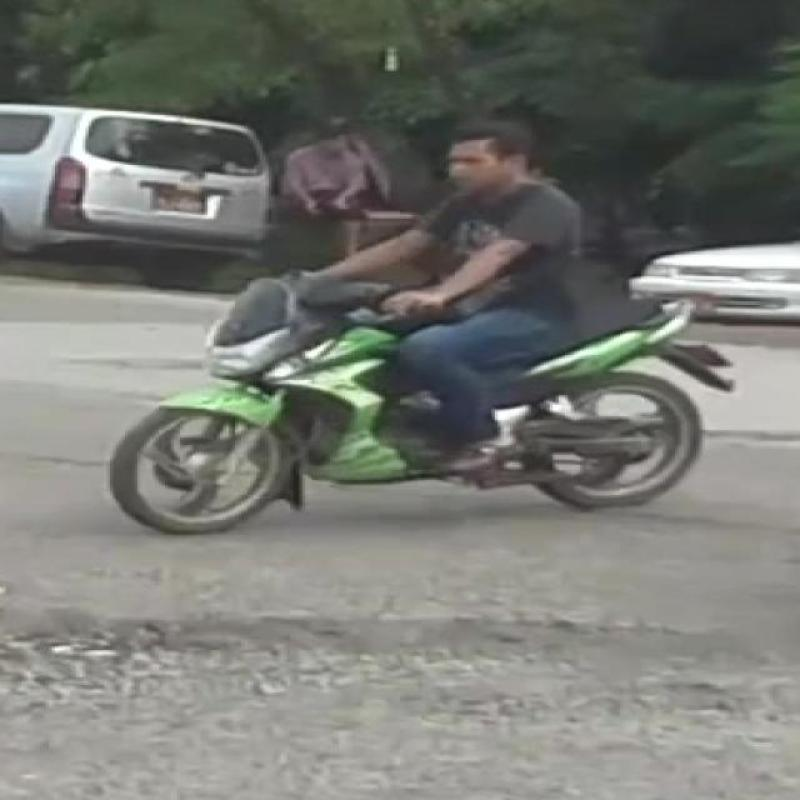nohelmet: (424, 118, 558, 206)
